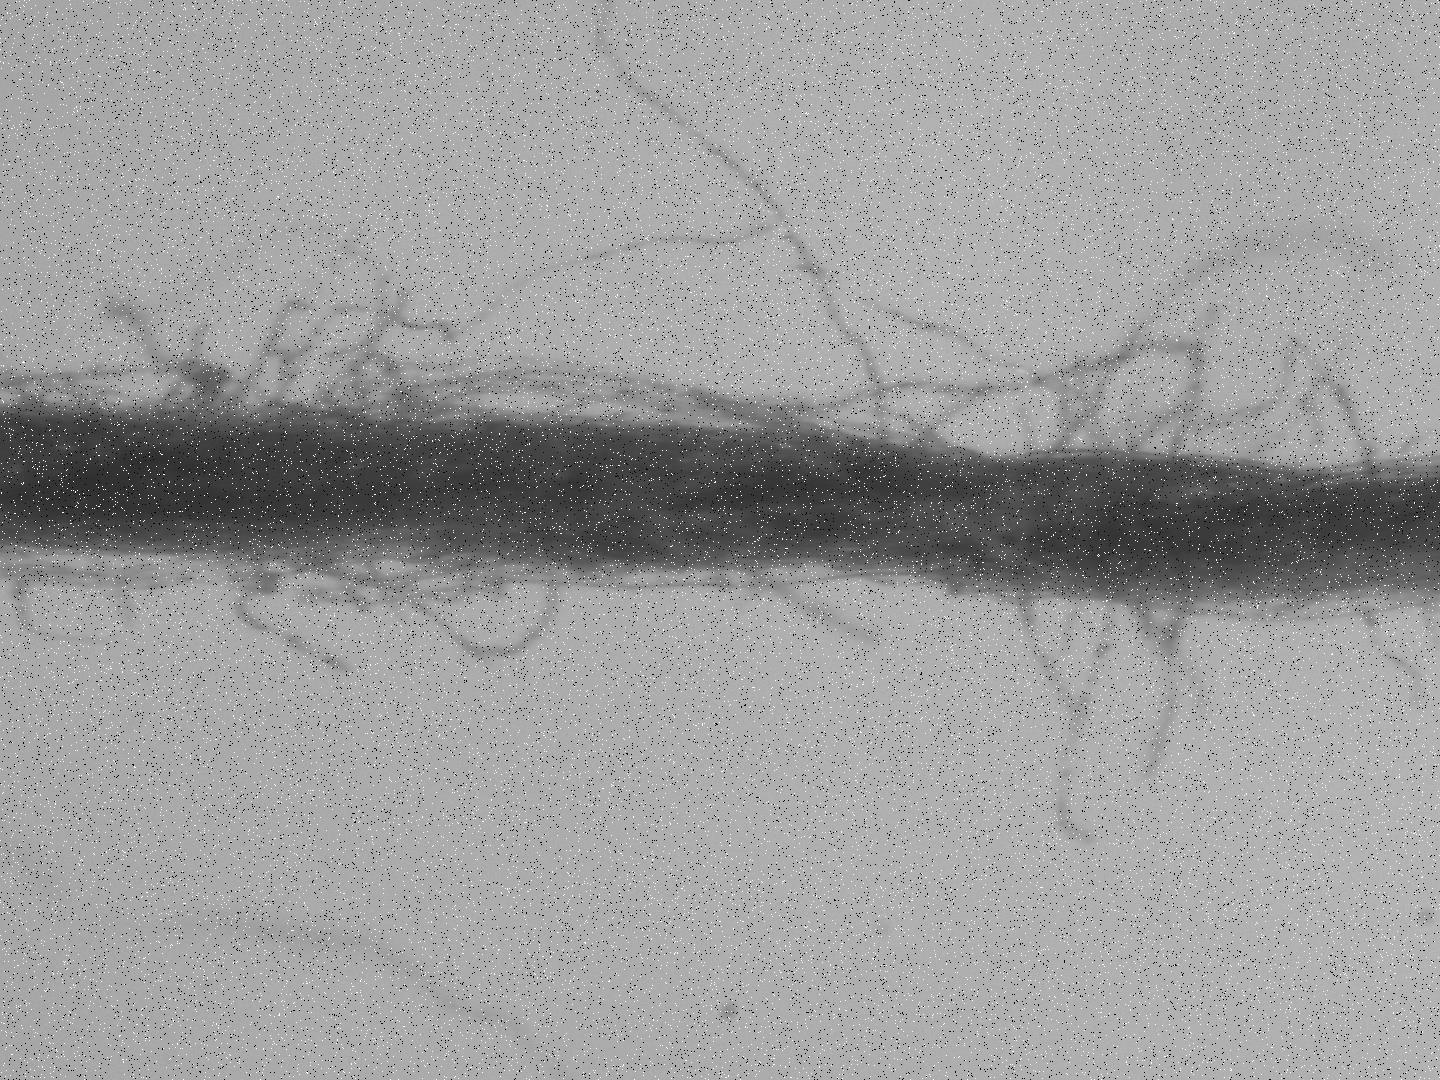loop_fiber: (279, 555, 567, 661)
protruding_fiber: (725, 564, 895, 651), (1345, 601, 1428, 715)
